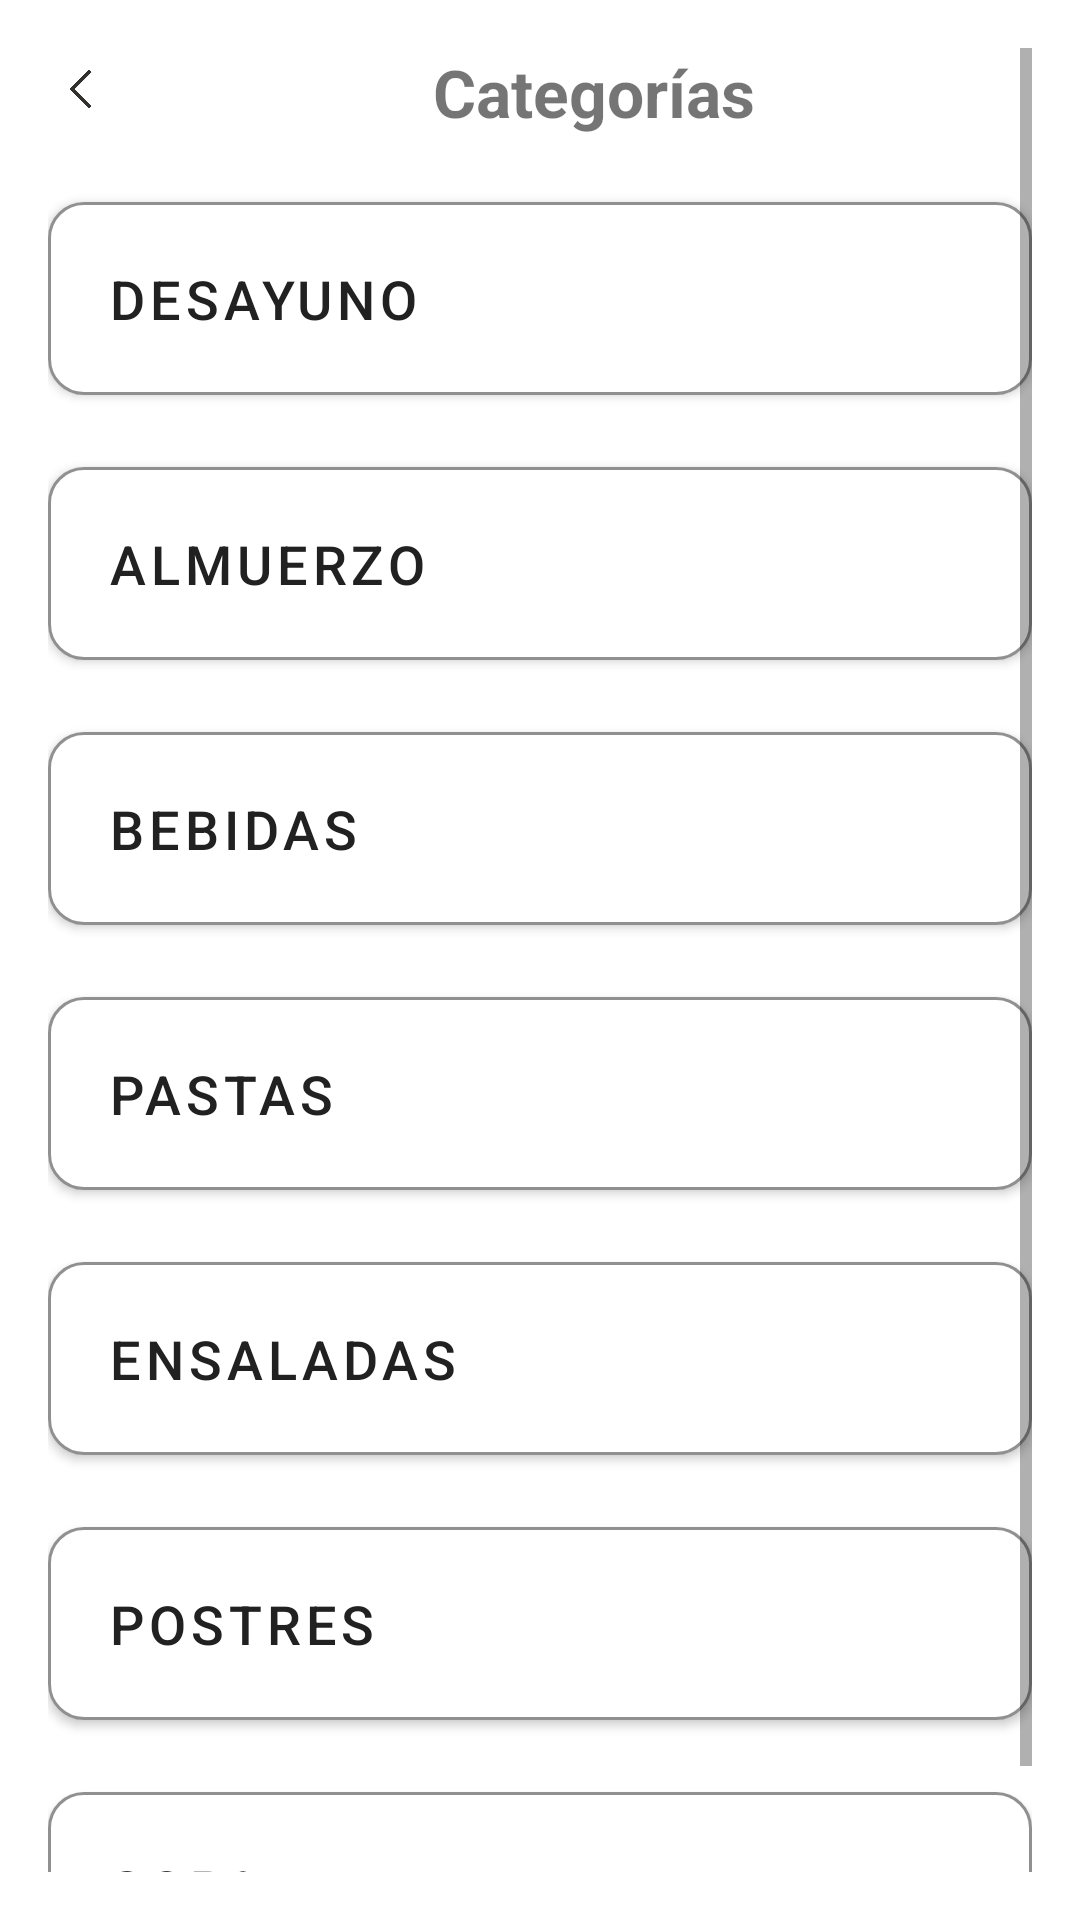

Screen size 1080px×1920px. Icon name, then its center in pixels as point (x, y):
volver: point (80, 89)
